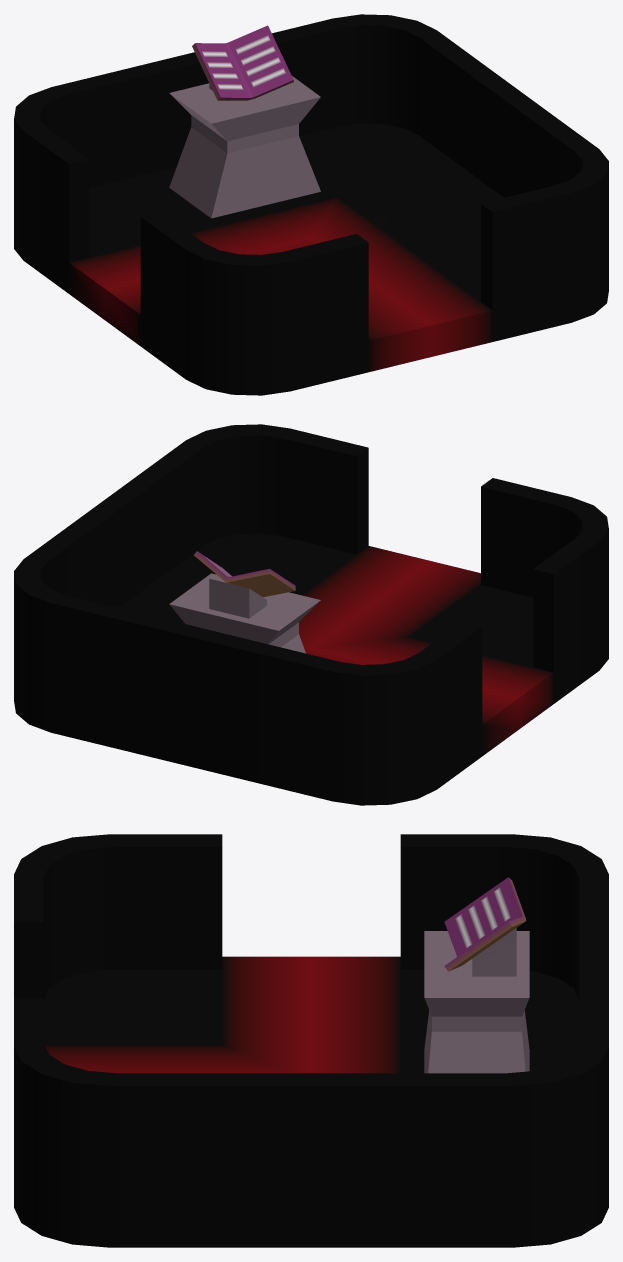
The model's file is Le_Do_finish_room.fbx.
3 views of the same model, one above another, from view 1: azimuth 30°, elevation 25°; view 2: azimuth 150°, elevation 25°; view 3: azimuth 270°, elevation 25° (orthographic). The views are drawn at different scales.
Parts seen in each view (by area): view 1: Le_Do_finish_room; view 2: Le_Do_finish_room; view 3: Le_Do_finish_room.
Boxes of the visible parts, x1,y1,x2,y2 form: Le_Do_finish_room: (14, 14, 608, 395); Le_Do_finish_room: (14, 424, 608, 805); Le_Do_finish_room: (14, 834, 608, 1247).
Size of the model in its own units: 100 by 41.18 by 100.
